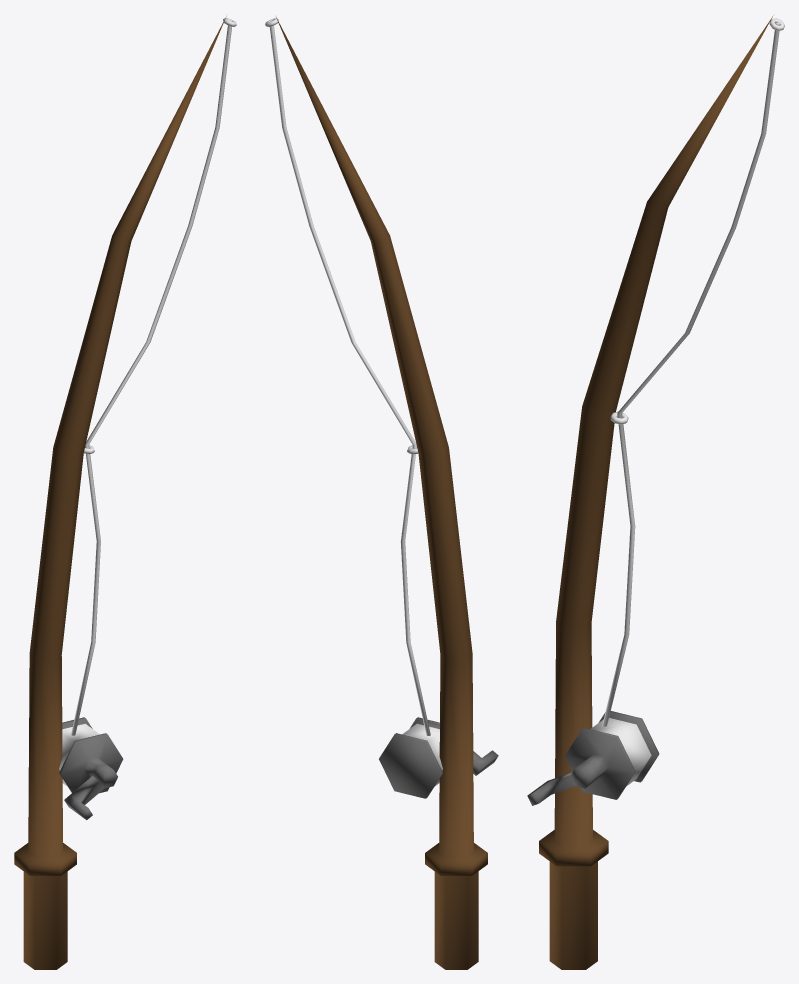
Rendered from fishing_rod.glb.
The picture shows the model from 3 angles, left to right: view 1: azimuth 30°, elevation 25°; view 2: azimuth 150°, elevation 25°; view 3: azimuth 330°, elevation 25°; orthographic projection. The views are drawn at different scales.
Parts seen in each view (by area): view 1: Cylinder.008, Cylinder.007, Cylinder.006; view 2: Cylinder.008, Cylinder.007, Cylinder.006; view 3: Cylinder.008, Cylinder.007, Cylinder.006.
Boxes of the visible parts, bbox=[...] form: Cylinder.008: bbox=[14, 16, 226, 969]; Cylinder.007: bbox=[59, 717, 123, 820]; Cylinder.006: bbox=[71, 20, 233, 735]; Cylinder.008: bbox=[276, 17, 487, 969]; Cylinder.007: bbox=[379, 717, 498, 798]; Cylinder.006: bbox=[269, 20, 430, 735]; Cylinder.008: bbox=[539, 15, 773, 969]; Cylinder.007: bbox=[527, 711, 659, 805]; Cylinder.006: bbox=[602, 22, 780, 726].
Bounding box in the file's own units: 0.3587 × 1.45 × 0.1602.
